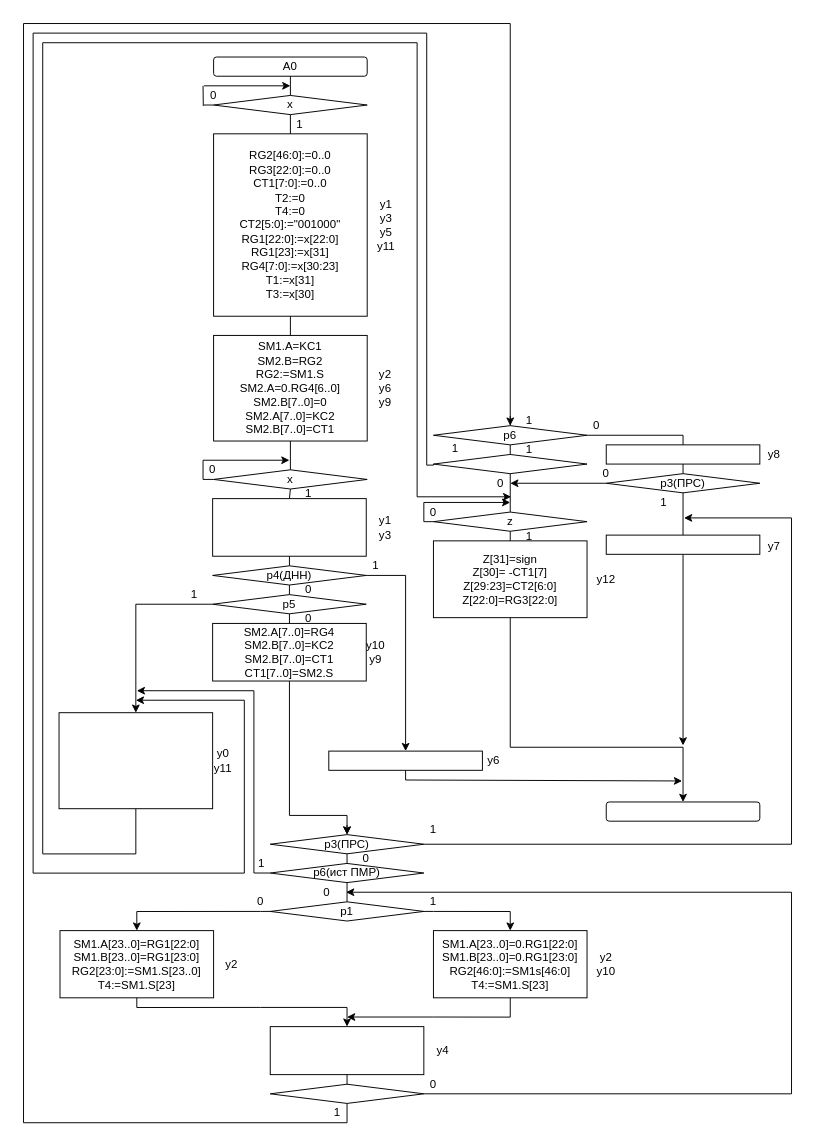
Image size: 816x1147. Some labels were removed from this diagram. The centre of each missing label's shape, as x and y in pixels:
A1: [682,811]
CT2:=CT2+1: [682,454]
p0: [346,1093]
p2(вр ПМР): [509,464]
RG1[22..0]:=x[22:0] RG1[23]:=x[31] RG4[7:0]:=x[30:23] T5:=x[31]: [289,527]
RG1[23:0]:=0..0 RG4[23:0]:=0..0 CT2[7:0]:=0..0 T1:=0 T2:=0 T5:=0: [135,760]
RG2[23:0]:=L1(RG2).0 RG3[23:0]:=L1(RG3).T6 CT2:=CT2+1: [346,1050]
T5:=1: [682,544]
TG4:=1: [405,760]
